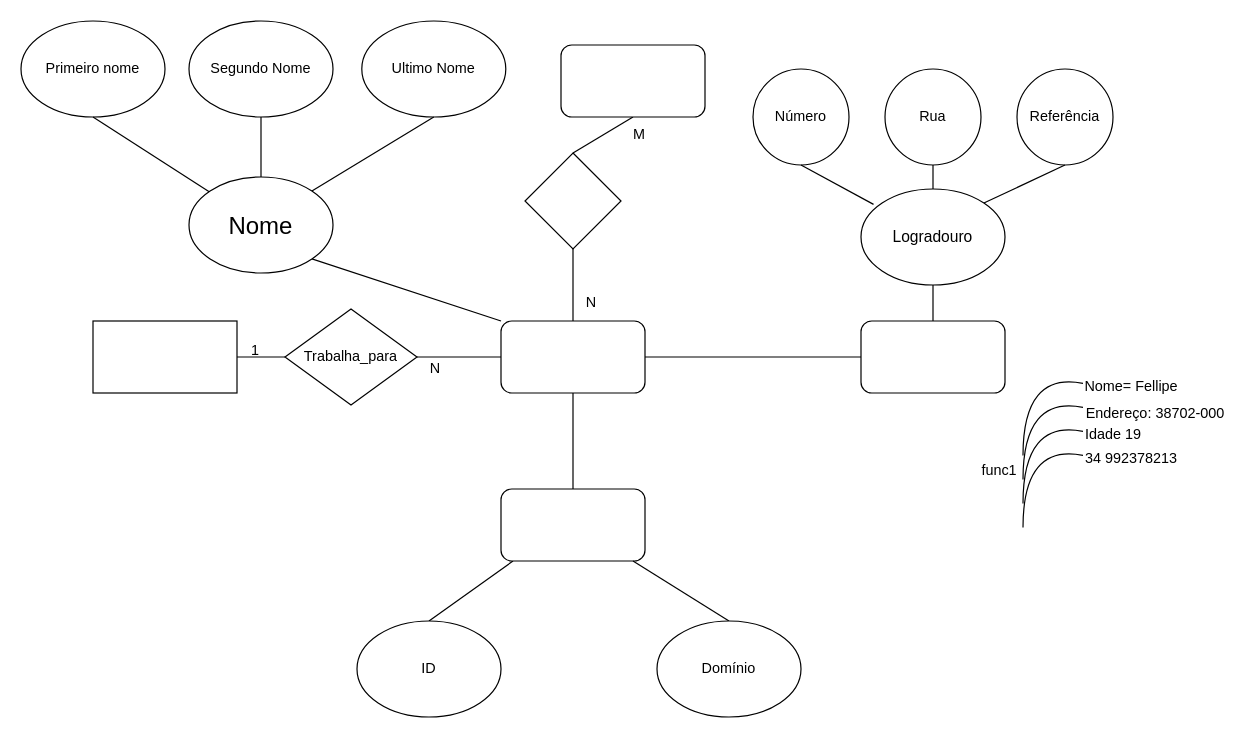
Some shapes in this 1260 by 738 pixel diagram are drawn without their labels. Each missing label, with the centre of its shape:
"Departamento" goes at point (164, 356).
"Endereço" goes at point (932, 356).
"Funcionário" goes at point (572, 356).
"Projeto" goes at point (632, 80).
"Usuário" goes at point (572, 524).
